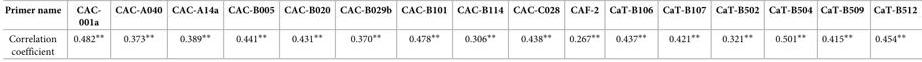table: (4, 4, 917, 56)
table column: (4, 4, 67, 56), (335, 4, 396, 56), (109, 4, 167, 56), (167, 4, 223, 56), (223, 4, 279, 56), (279, 4, 335, 56), (396, 4, 452, 56), (452, 4, 508, 56), (508, 4, 564, 56), (657, 4, 711, 56), (604, 4, 657, 56), (711, 4, 764, 56), (764, 4, 816, 56), (816, 4, 868, 56), (868, 4, 917, 56), (67, 4, 109, 56), (564, 4, 604, 56)
table column header: (4, 4, 917, 30)
table row: (4, 4, 917, 30), (4, 30, 917, 56)
